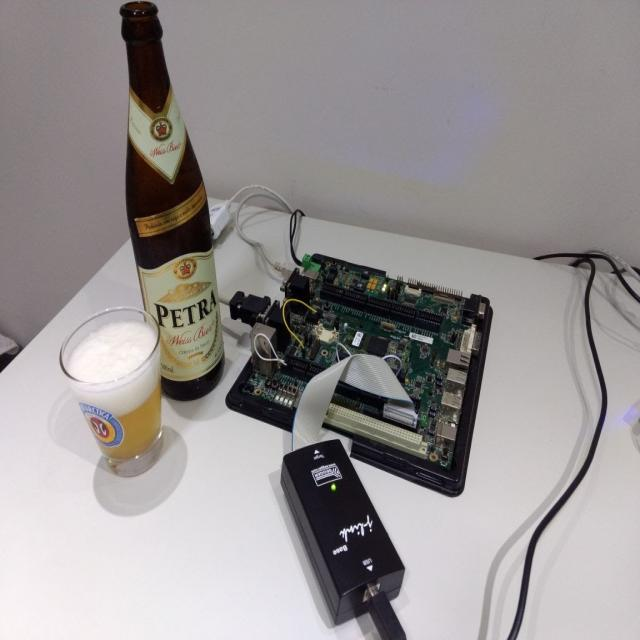som: (338, 323, 414, 380)
